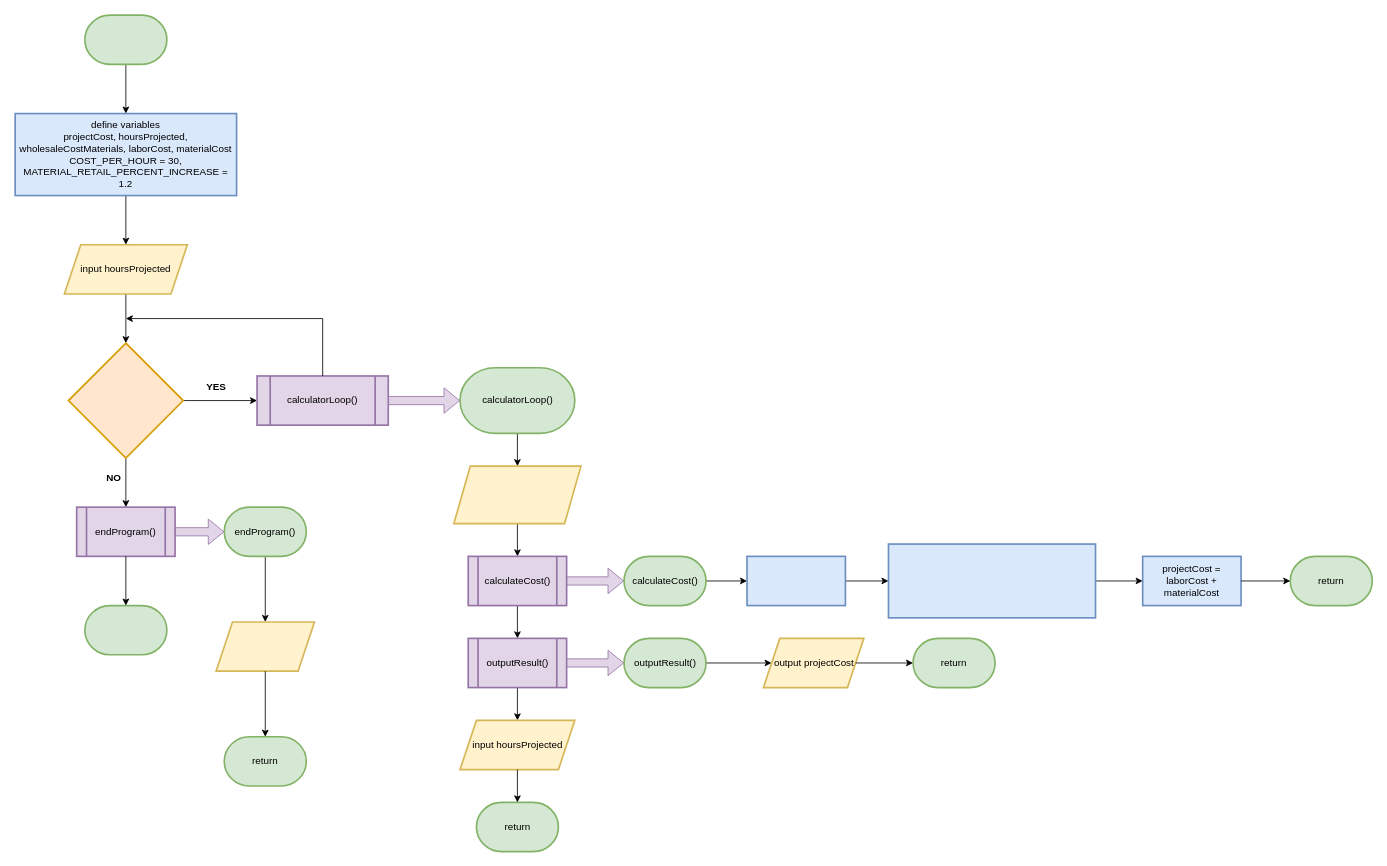
This 1387x866 diagram has some shape labels left out. Each missing label, with the centre of its shape:
hoursProjected not 0?: pixel 125 400
input wholesaleCostMaterials: pixel 517 494
laborCost = hoursProjected * COST_PER_HOUR: pixel 796 580
materailCost = wholesaleCostMaterials * MATERIAL_RETAIL_PERCENT_INCREASE: pixel 991 580
output "End of program": pixel 265 646
start: pixel 125 39
stop: pixel 125 629
